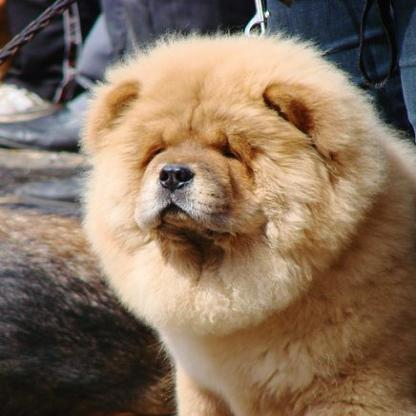chow: (73, 28, 413, 414)
